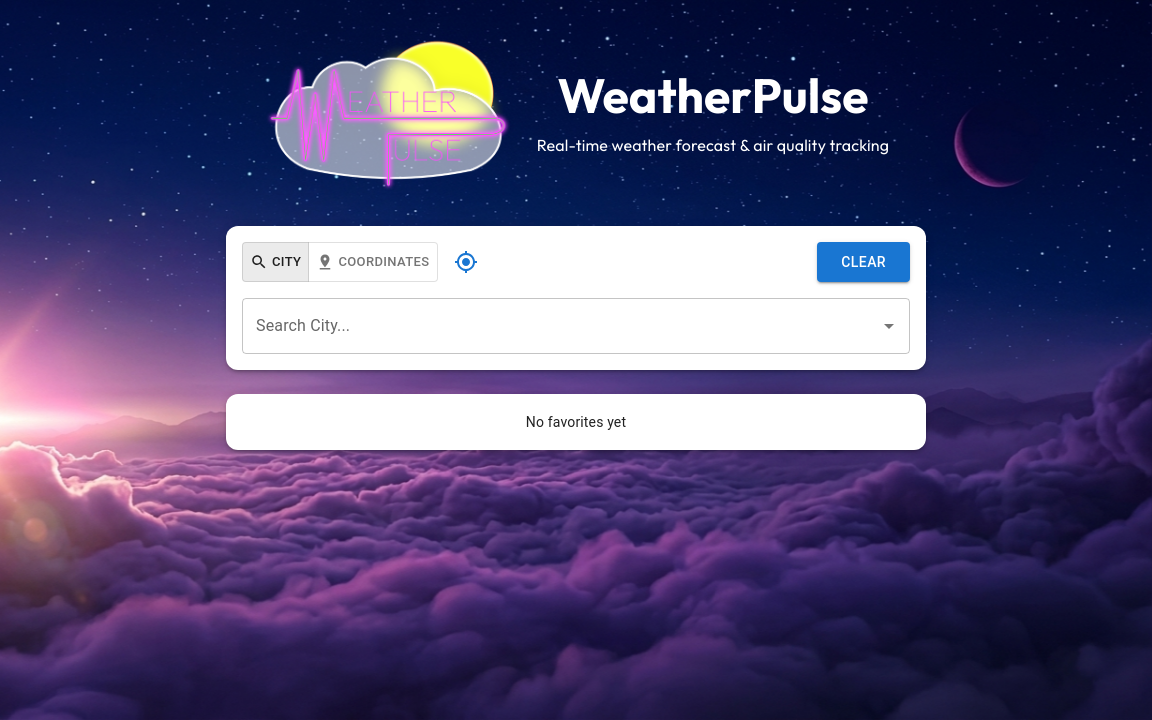
it: App › use my location › reverse geocodes the position, then shows the weather panel for that city
The width and height of the screenshot is (1152, 720).
Step 1. Click the button named "use my location" → (466, 262), box left=446, top=242, right=486, bottom=282
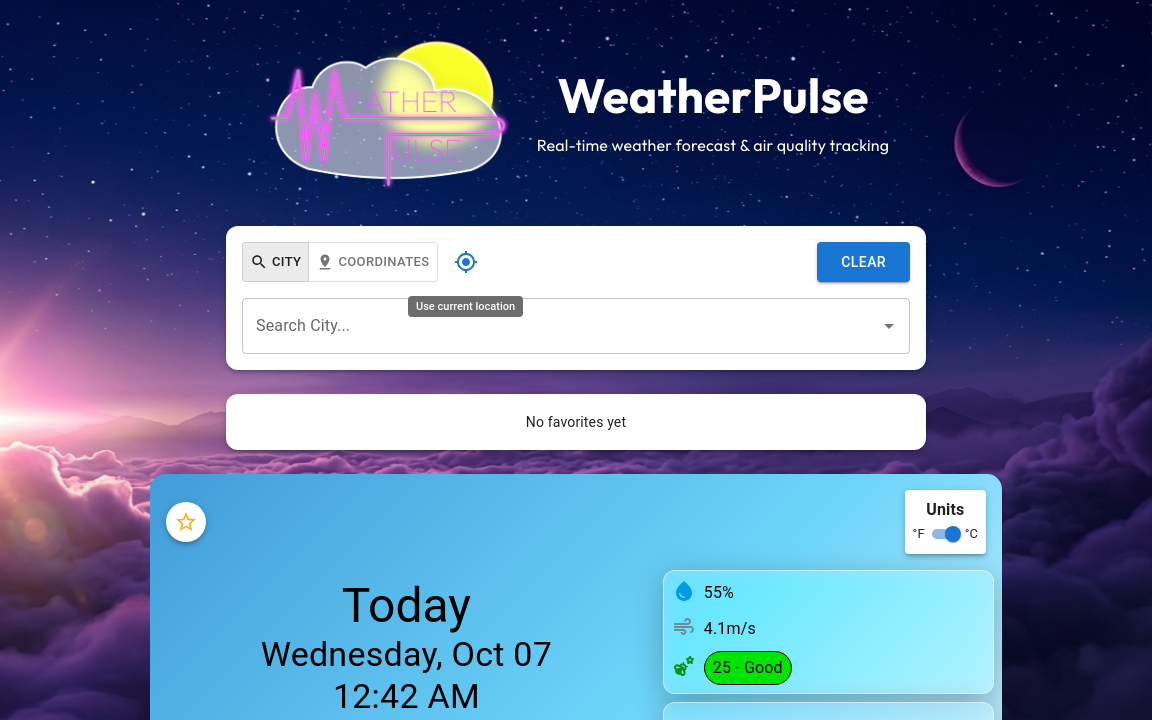
Expected: the text "55%" is shown, left=704, top=581, right=734, bottom=605
Expected: the text "4.1m/s" is shown, left=704, top=617, right=756, bottom=641
Expected: the text "25 - Good" is shown, left=713, top=656, right=783, bottom=680
